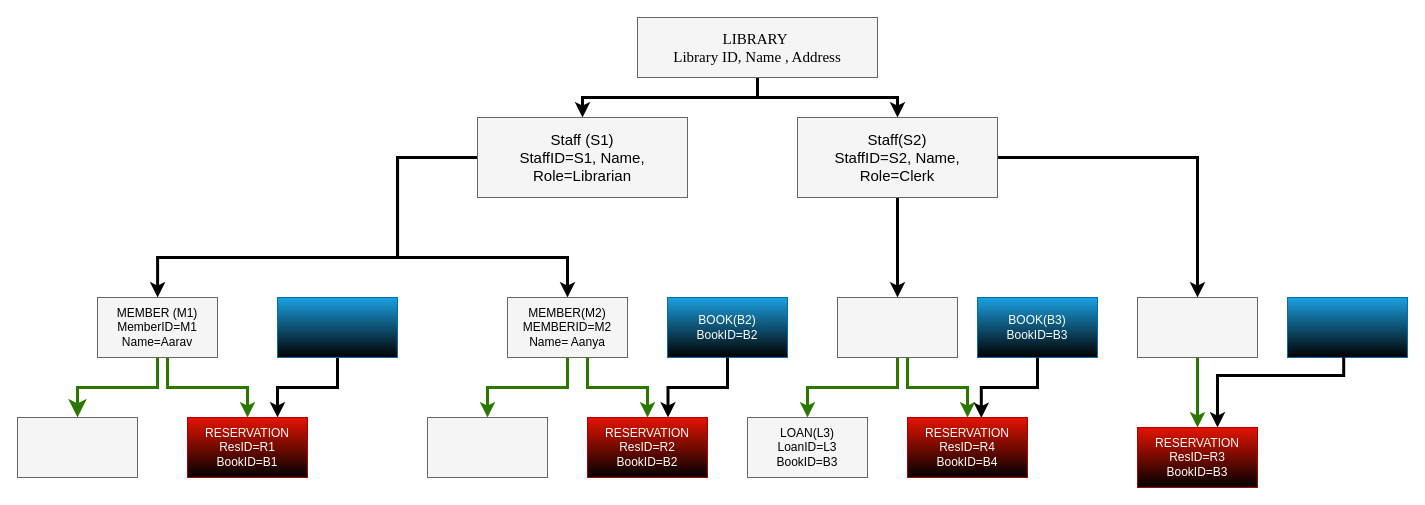
The diagram is 1425 pixels wide and 505 high, and some of its shapes have lost their labels. The shapes that lost their labels are listed below. From the top down, each one's centre as x and y in pixels, then its label:
the point at 337,327: BOOK(B1) BookID=B1
the point at 897,327: MEMBER(M3) MemberID=M3 Name= Anvi
the point at 1197,327: MEMBER(M4) MemberID=M4 Name= Khushi
the point at 1347,327: BOOK(B4) BookID=B4
the point at 77,447: LOAN(L1) LoanID=L1 BookID=B1
the point at 487,447: LOAN(L2) LoanID=L2 BookID=B2
